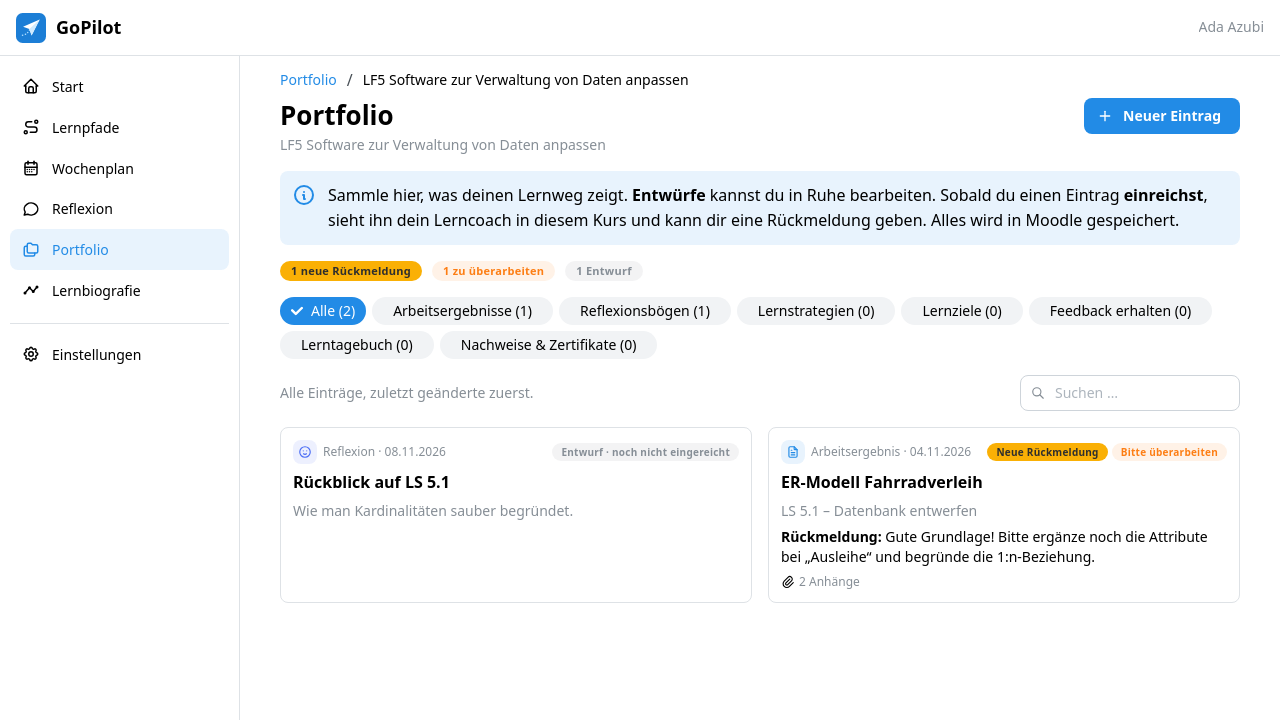
Test: Portfolio › filtert nach Register
Expected: the text "ER-Modell Fahrradverleih" is shown, x1=781 y1=471 x2=983 y2=493
Click the radio button labelled "Reflexionsbögen (1)": (645, 311) x1=559 y1=297 x2=731 y2=325
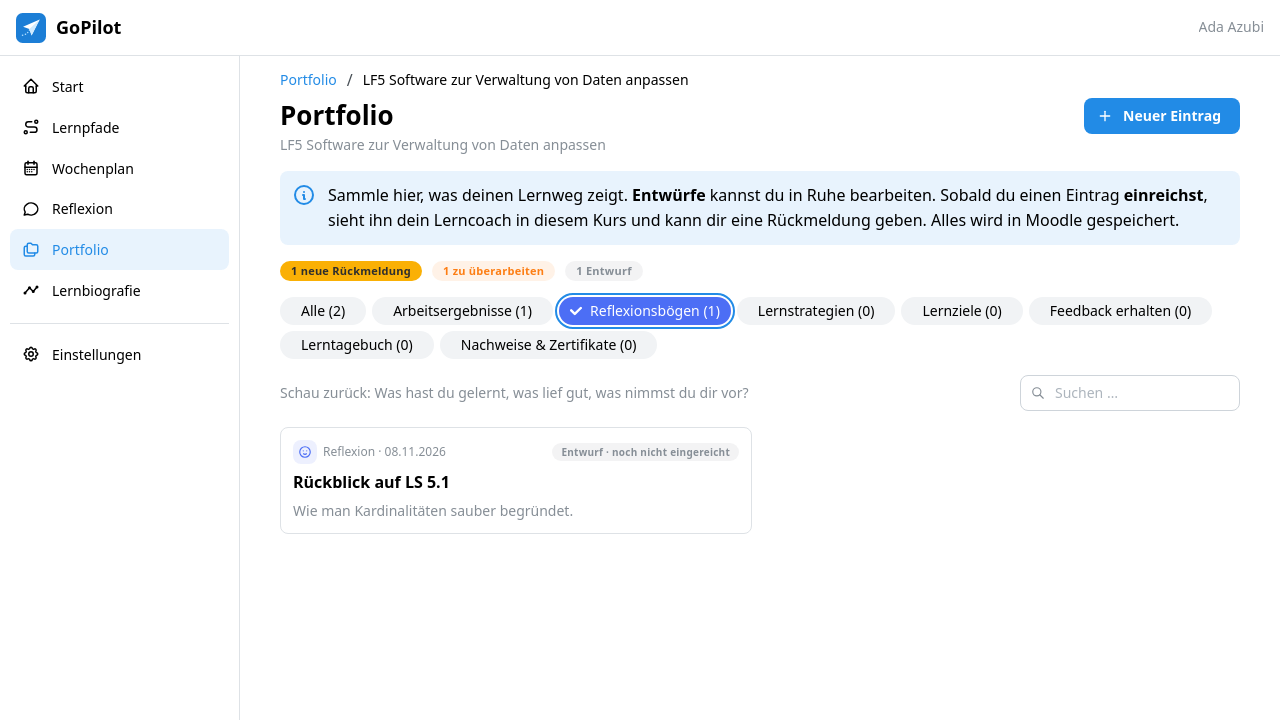
Expected: the text "Rückblick auf LS 5.1" is shown, x1=293 y1=471 x2=450 y2=493
Expected: the button "ER-Modell Fahrradverleih" is gone
